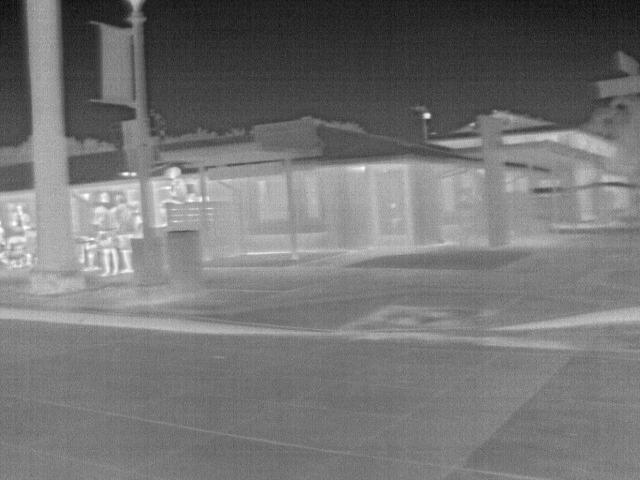person: (91, 190, 117, 276), (156, 164, 188, 228), (111, 193, 134, 274), (2, 225, 29, 269), (10, 202, 32, 228)
